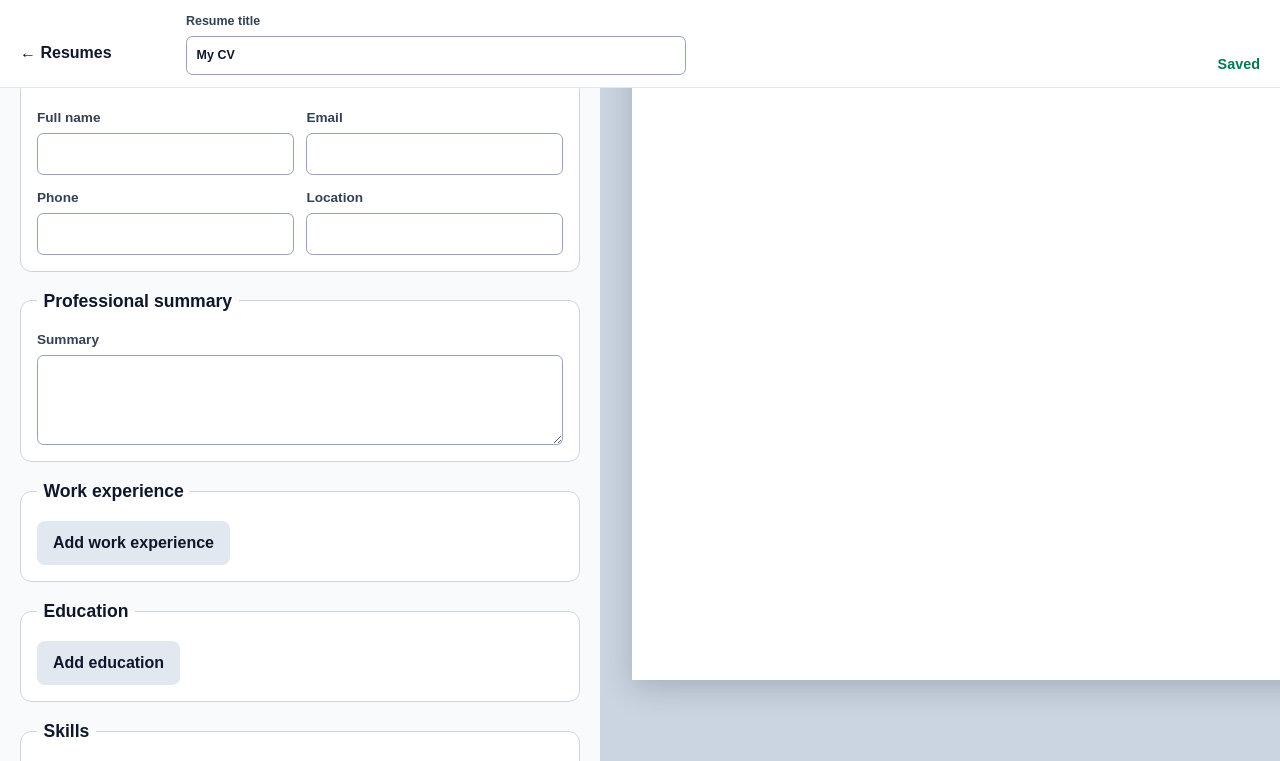
resume editor and autosave › stays in the editor when the navigation save fails
The width and height of the screenshot is (1280, 761).
(page scrolled)
Type "Keep this locally" into the text box labelled "Summary".
click(300, 400); type("Keep this locally")  # box [37,355,563,445]
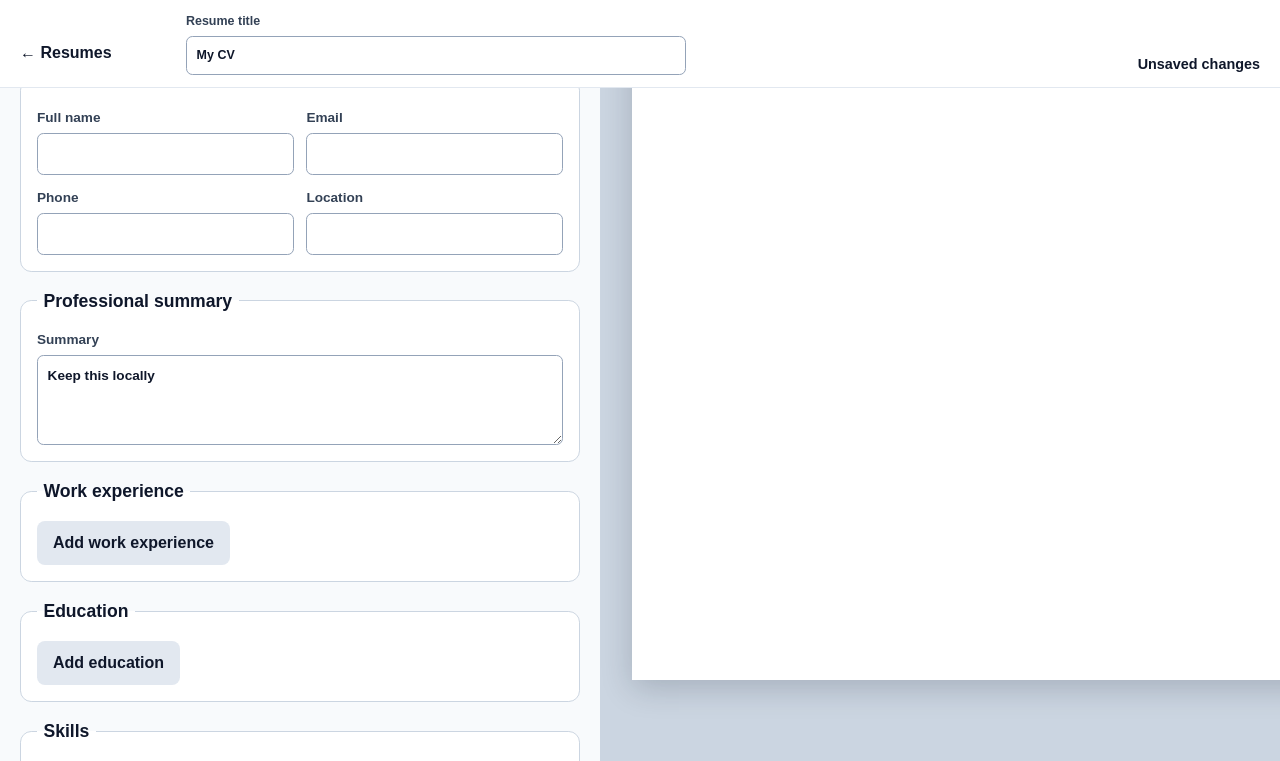
Click the button "← Resumes".
click(74, 53)  # box [20,31,128,75]
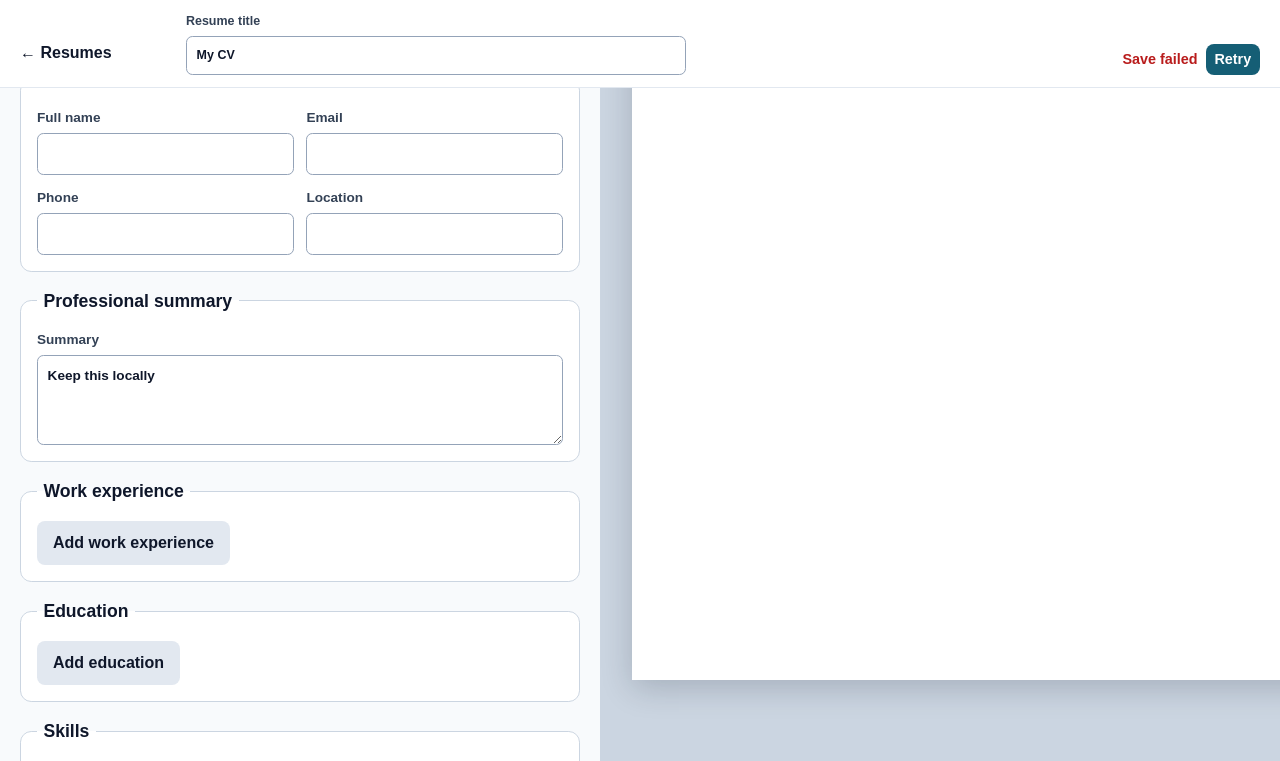
Expected: the message shows "Save failed", [1122,51,1198,67]
